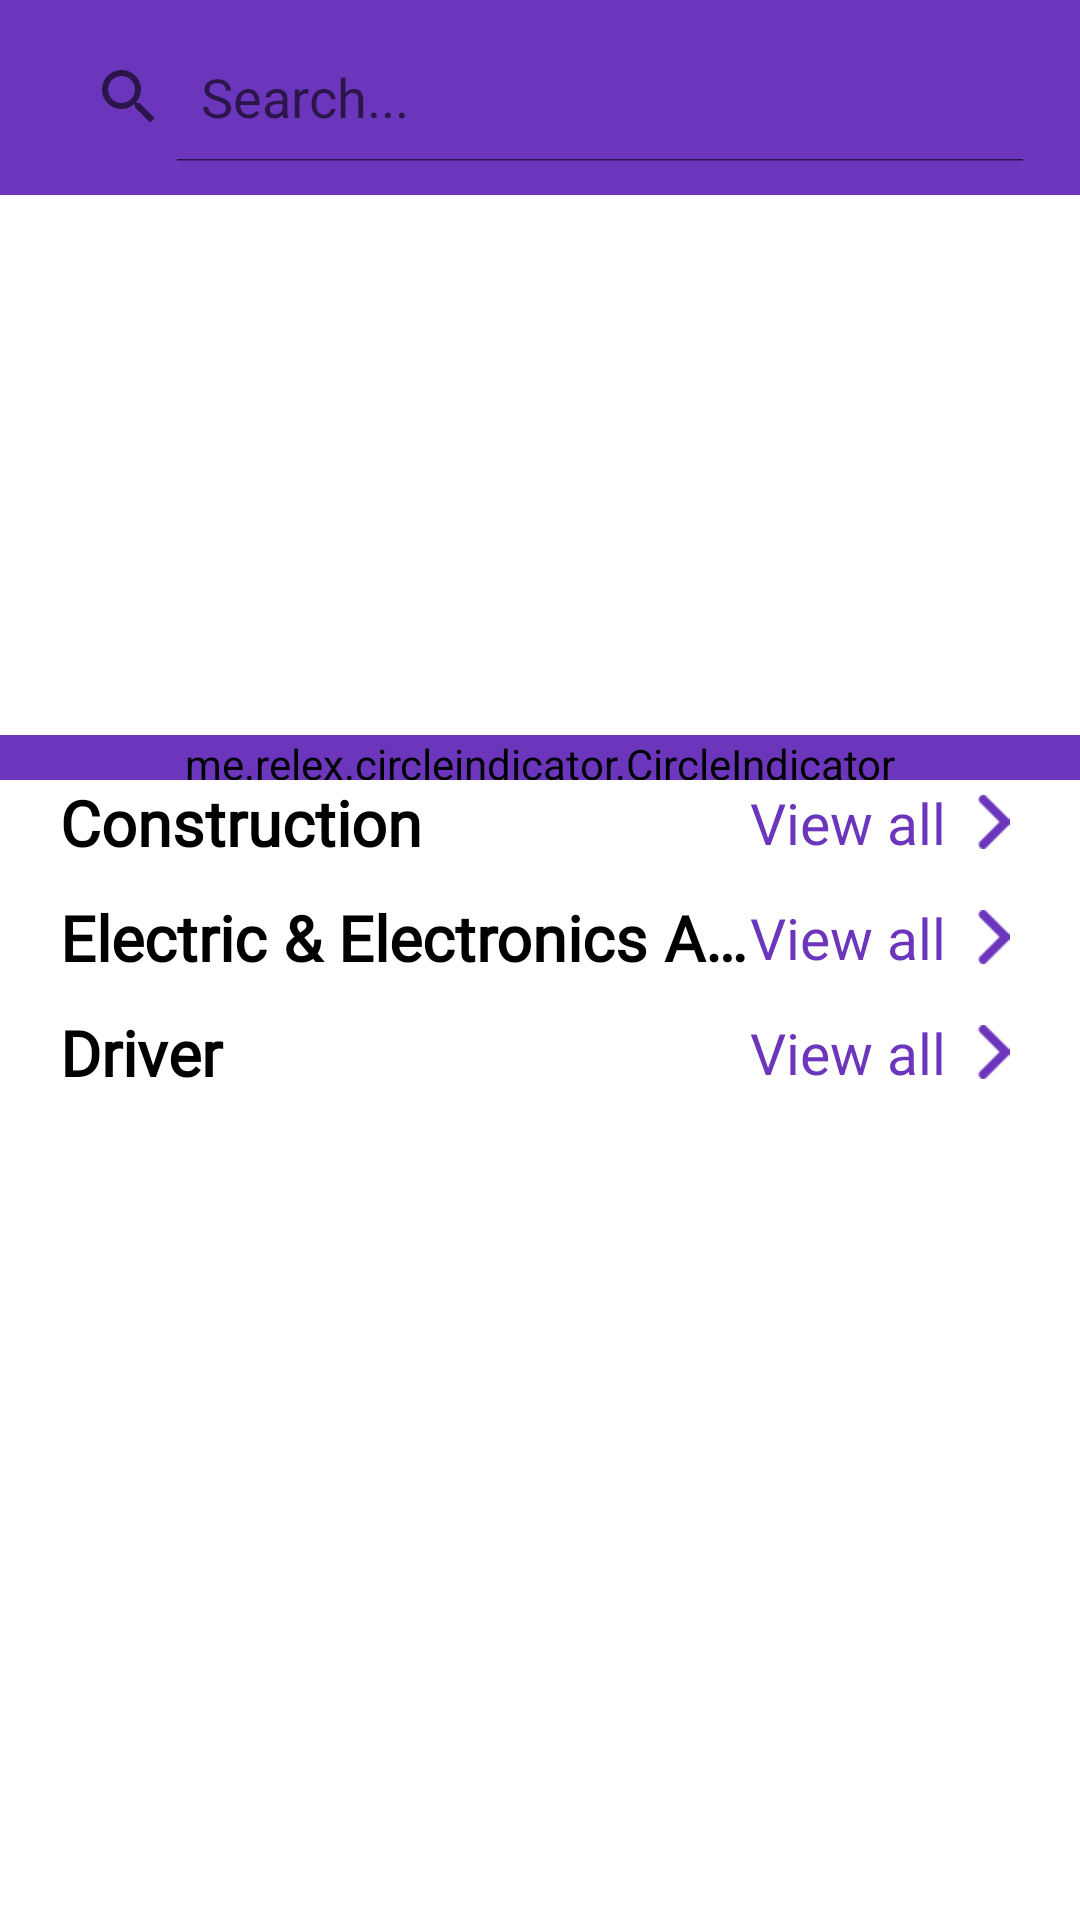

Icon click points for this 1080*1920 phone screenshot, format (x=x, y=y):
forward: (x=994, y=822), (x=994, y=937), (x=994, y=1052)
